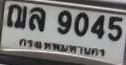letters: (7, 4, 27, 29), (29, 7, 46, 32), (57, 10, 72, 35), (74, 12, 89, 37), (108, 16, 123, 41), (91, 15, 105, 39)
province: (19, 39, 105, 56)
